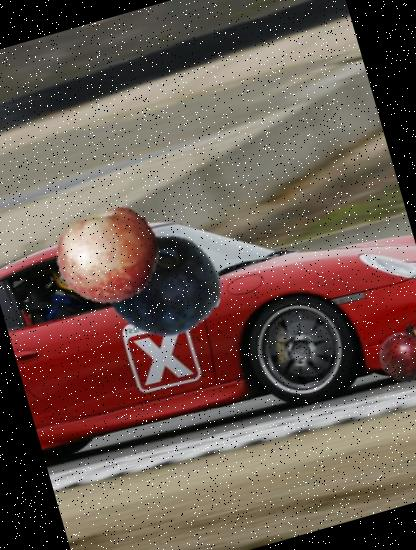Blueberry: (100, 217, 236, 354)
Mangostan: (370, 310, 416, 392)
Nectarine: (44, 190, 173, 319)
